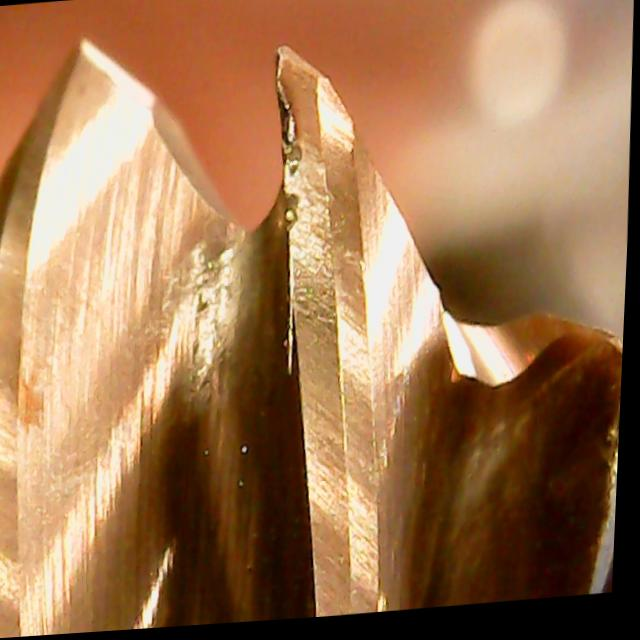Tool-wear-class-1: (256, 33, 403, 406)
